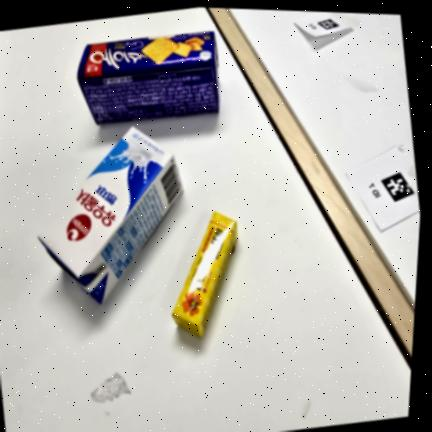cracker_ace: (78, 31, 219, 125)
gum_yellow: (172, 212, 238, 337)
milk_blue: (38, 127, 183, 303)
